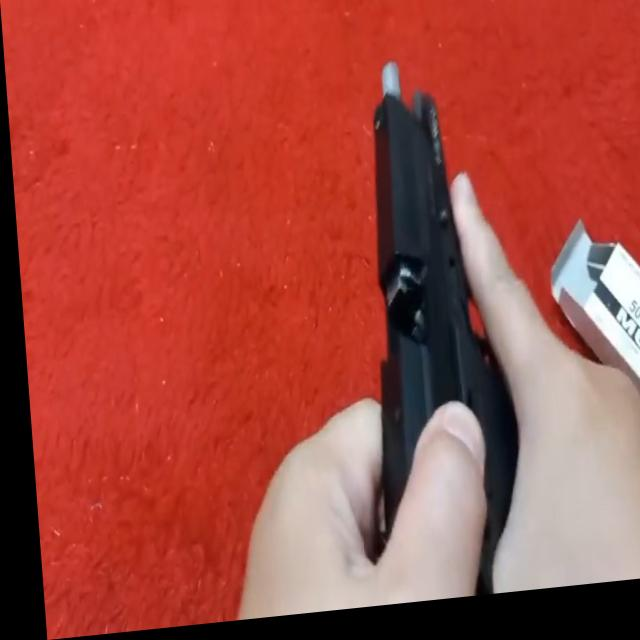handgun: (357, 57, 502, 546)
